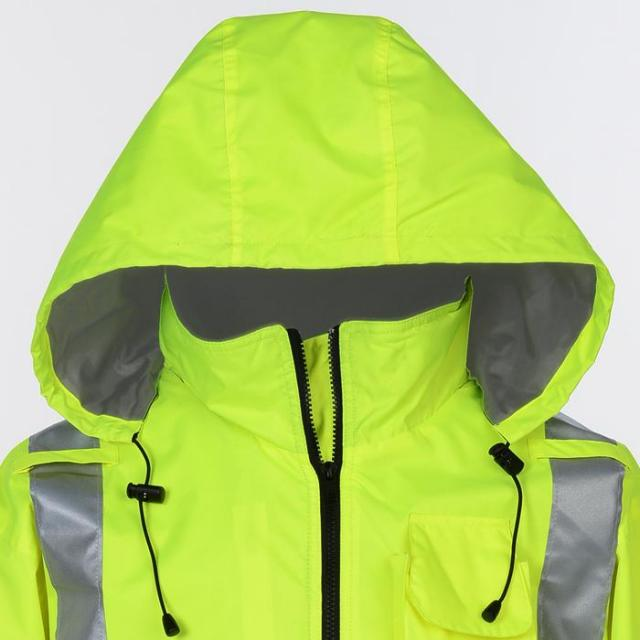Reflective-Jacket: (6, 2, 639, 640)
